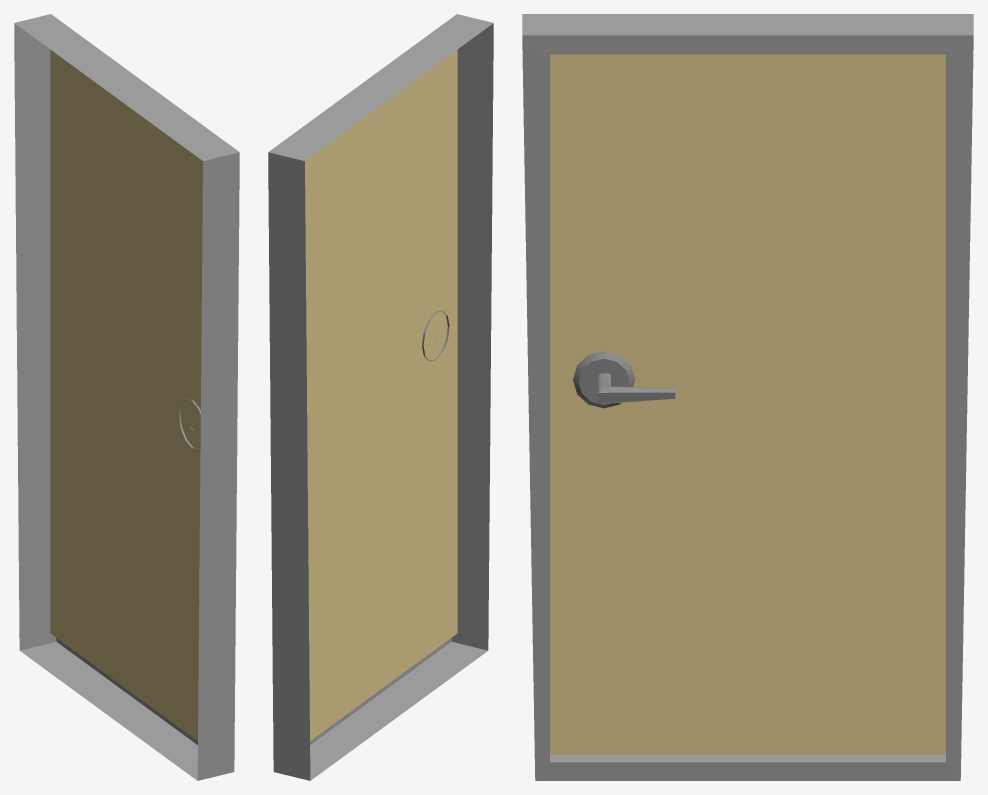
Rendered from Door_textured.fbx.
3 renders of one model, left to right at view 1: azimuth 30°, elevation 25°; view 2: azimuth 150°, elevation 25°; view 3: azimuth 270°, elevation 25°, orthographic. The views are drawn at different scales.
Visible parts, largest first — view 1: pCube6; view 2: pCube6; view 3: pCube6.
Boxes of the visible parts, left/top/right/bottom form: pCube6: left=14, top=14, right=239, bottom=780; pCube6: left=268, top=14, right=493, bottom=780; pCube6: left=522, top=14, right=973, bottom=780.
Bounding box in the file's own units: 0.1405 × 1.54 × 0.8445.
1 material, 1 textured.
